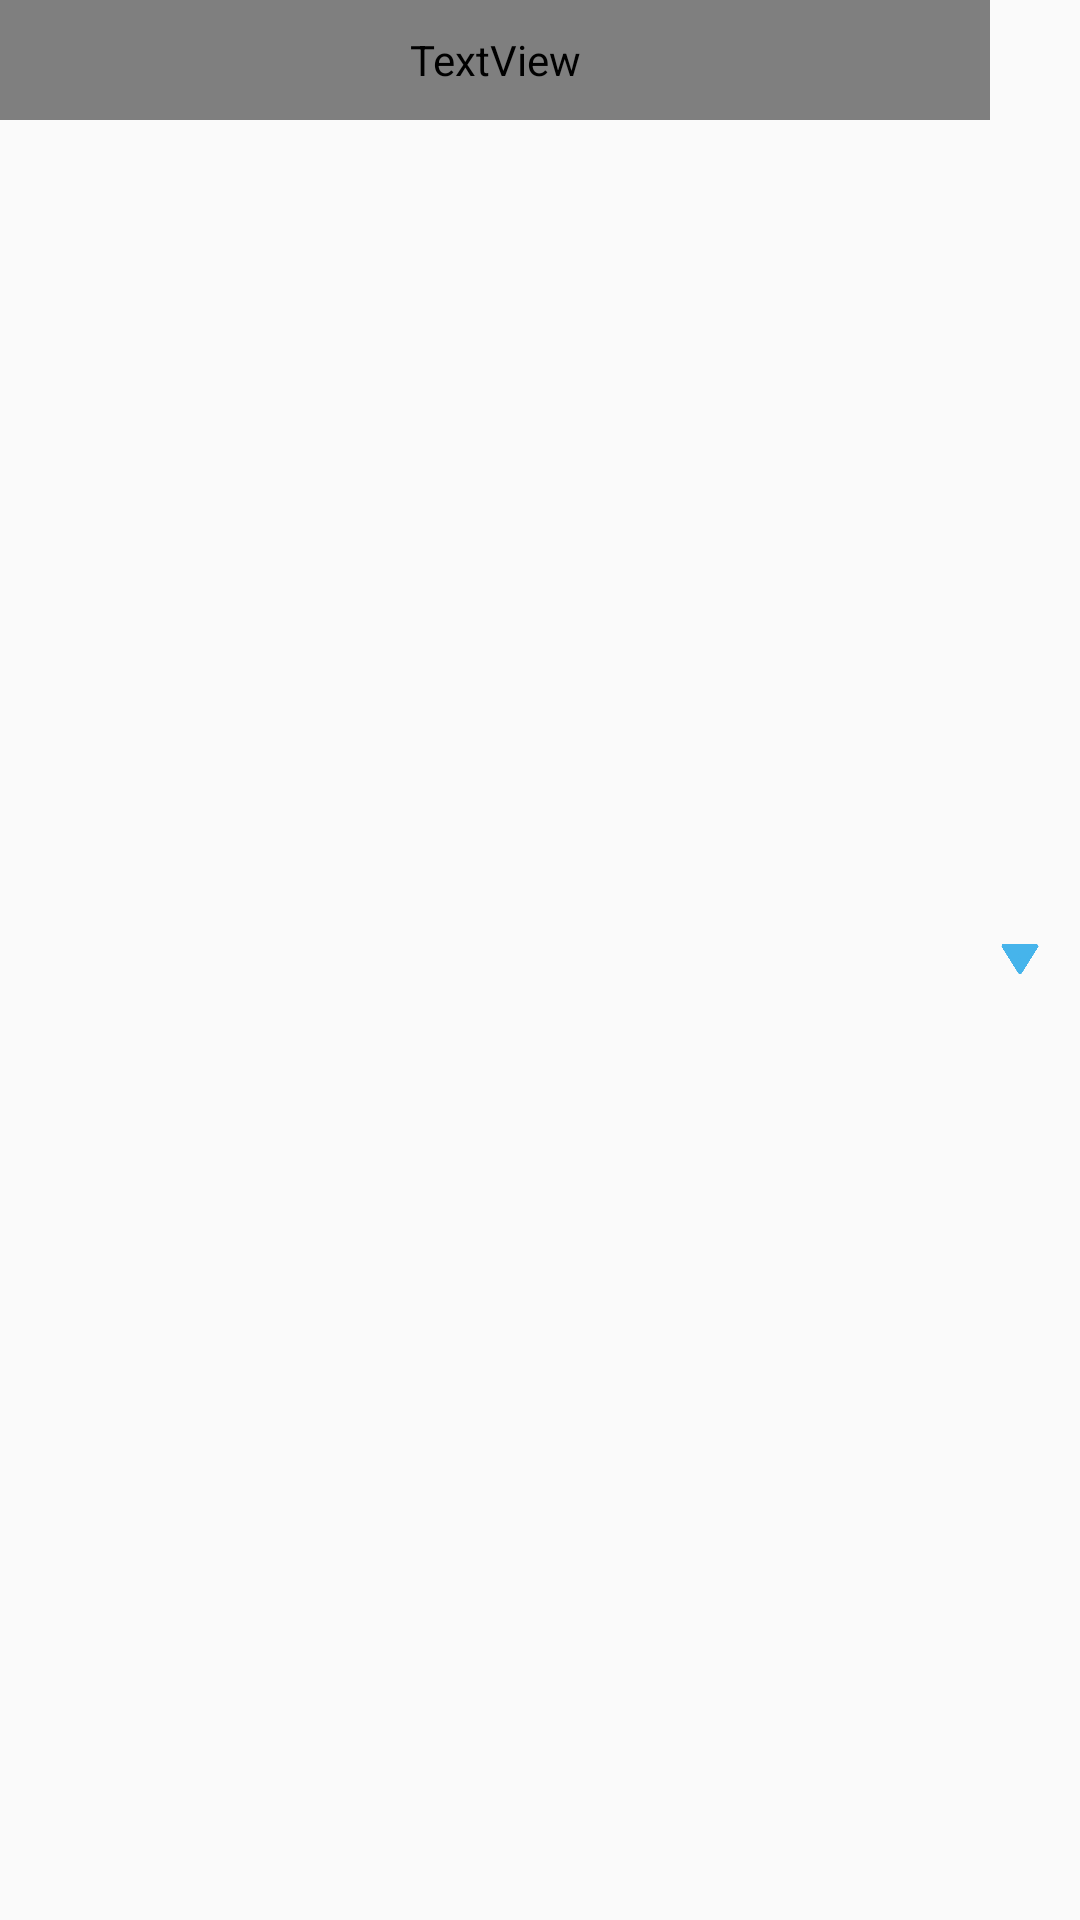

Where to tap for icons on this 1080px×1920px app screen, as (x=x, y=y):
arrow down: (x=1020, y=959)
